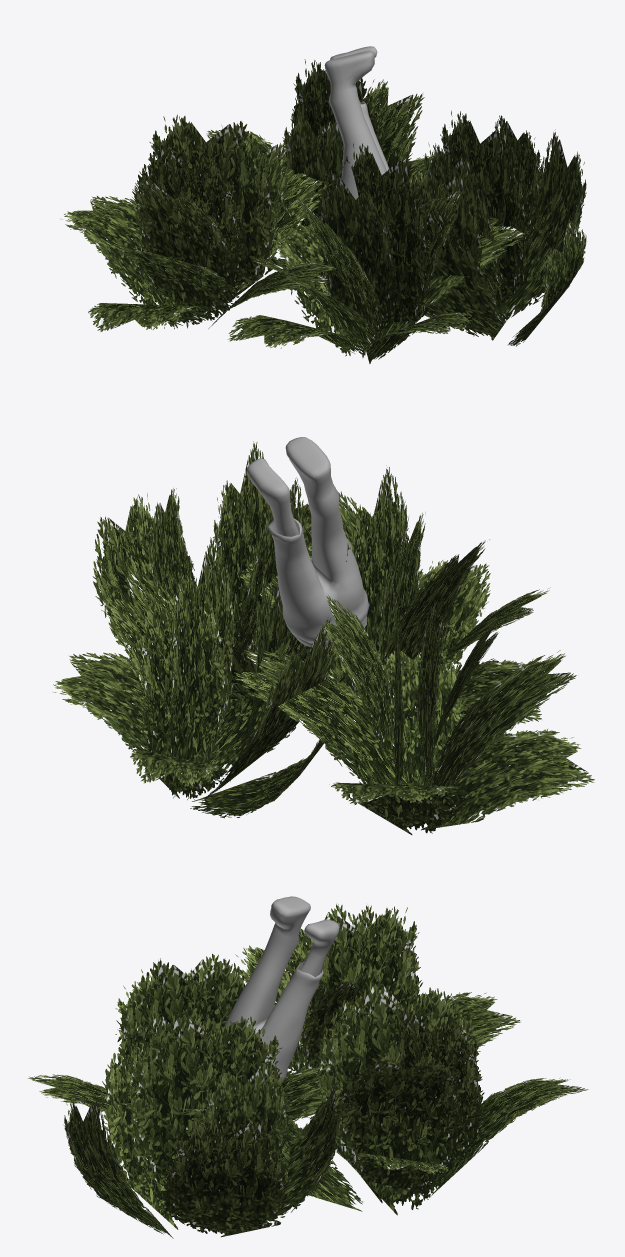
The model's file is bush2.fbx.
3 views of the same model, one above another, from view 1: azimuth 30°, elevation 25°; view 2: azimuth 150°, elevation 25°; view 3: azimuth 270°, elevation 25° (orthographic). The views are drawn at different scales.
Parts seen in each view (by area): view 1: pPlane78; view 2: pPlane78; view 3: pPlane78.
Part boxes in pixels (box(x1,y1,x2,y2)): pPlane78: box(60, 46, 586, 363); pPlane78: box(53, 437, 594, 834); pPlane78: box(28, 896, 588, 1238).
Size of the model in its own units: 250 by 142 by 256.
